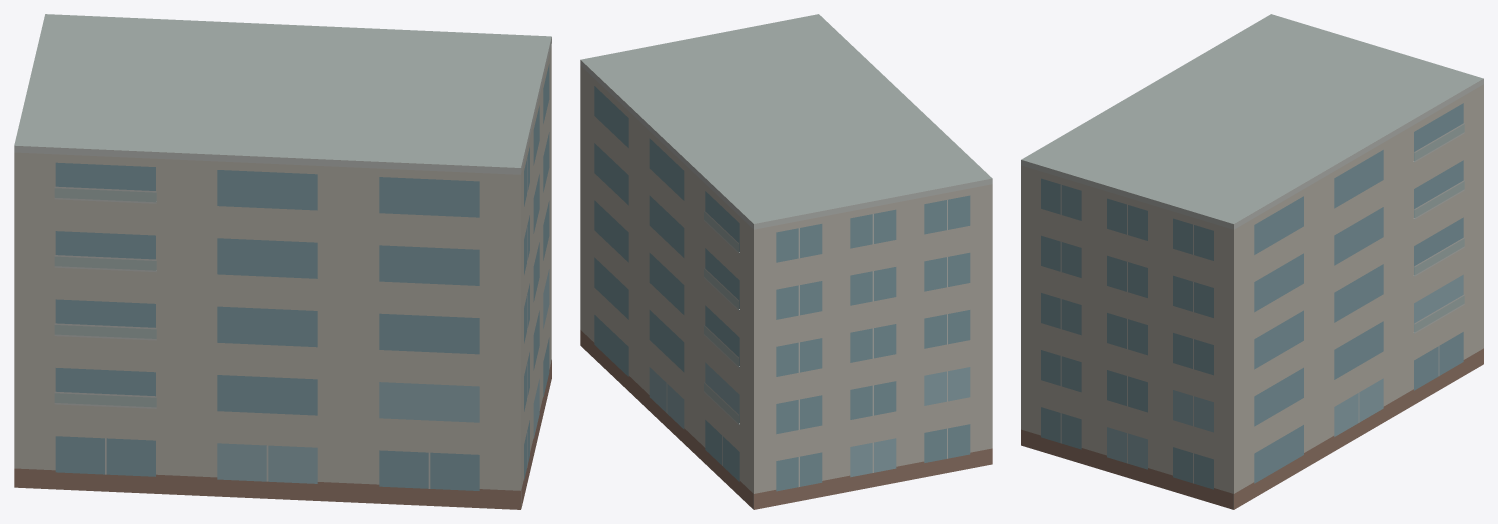
File: survey-upis-32555756.glb
3 views of the same model, side by side, from view 1: azimuth 30°, elevation 25°; view 2: azimuth 150°, elevation 25°; view 3: azimuth 270°, elevation 25° (orthographic). The views are drawn at different scales.
Parts seen in each view (by area): view 1: survey-upis-32555756.tmp; view 2: survey-upis-32555756.tmp; view 3: survey-upis-32555756.tmp.
Boxes of the visible parts, x1,y1,x2,y2 form: survey-upis-32555756.tmp: [14, 14, 551, 509]; survey-upis-32555756.tmp: [580, 14, 992, 509]; survey-upis-32555756.tmp: [1021, 14, 1483, 509].
Size of the model in its own units: 19.41 by 12.3 by 18.06.
